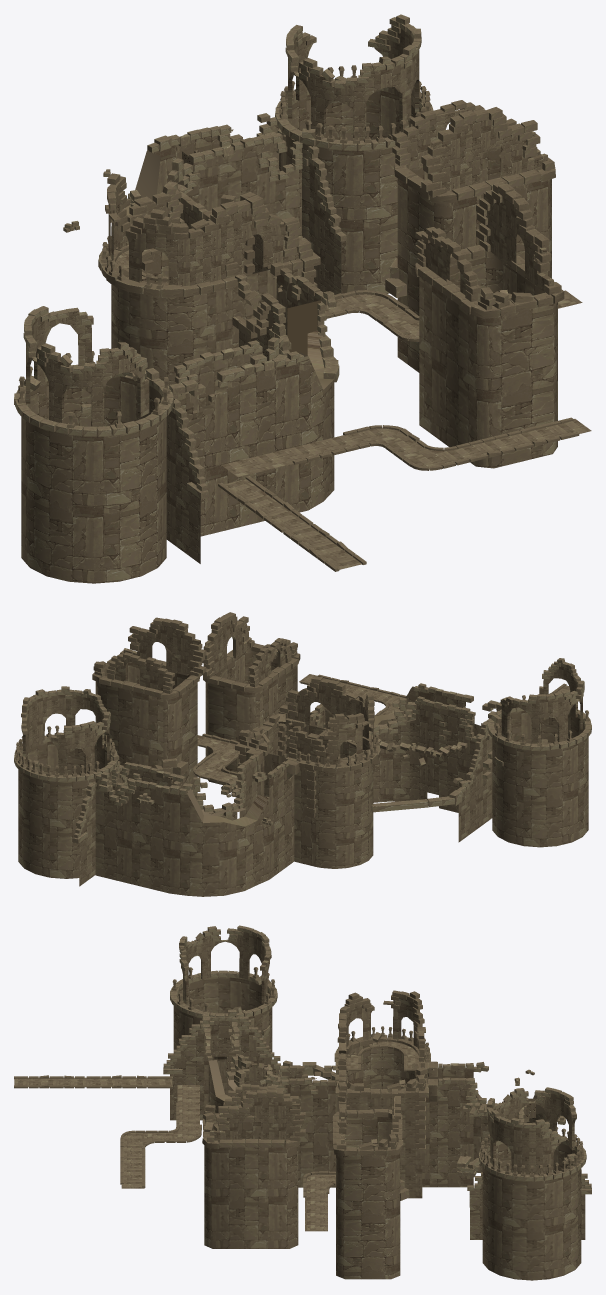
Rendered from bfcs_03.FBX.
3 views of the same model, one above another, from view 1: azimuth 30°, elevation 25°; view 2: azimuth 150°, elevation 25°; view 3: azimuth 270°, elevation 25° (orthographic). The views are drawn at different scales.
Visible parts, largest first — view 1: bfcs_03; view 2: bfcs_03; view 3: bfcs_03.
Boxes of the visible parts, left/top/right/bottom form: bfcs_03: left=14, top=14, right=591, bottom=583; bfcs_03: left=14, top=612, right=591, bottom=896; bfcs_03: left=14, top=925, right=591, bottom=1280.
Bounding box in the file's own units: 2556 × 1021 × 3018.
